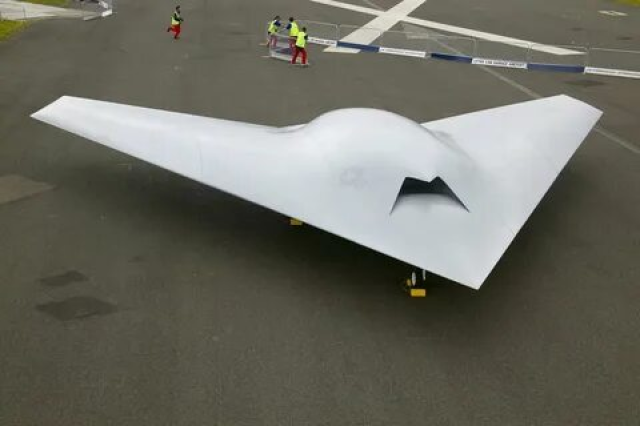military drone: (30, 94, 602, 292)
